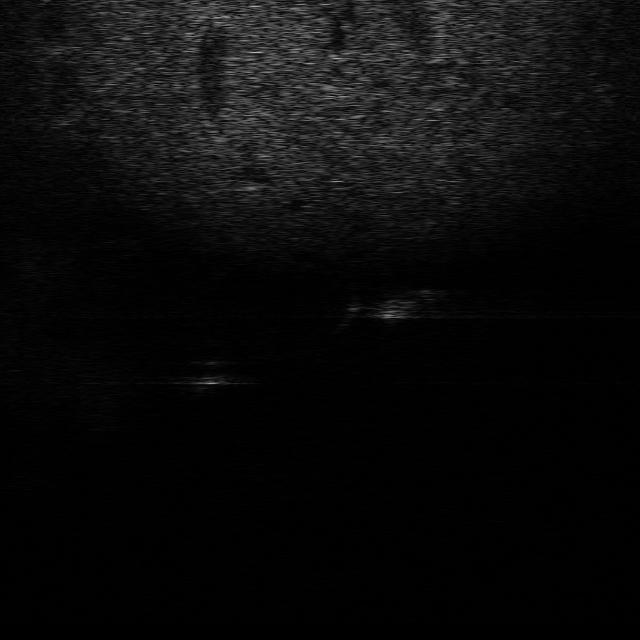ball: (168, 354, 238, 389)
human body: (332, 284, 452, 329)
